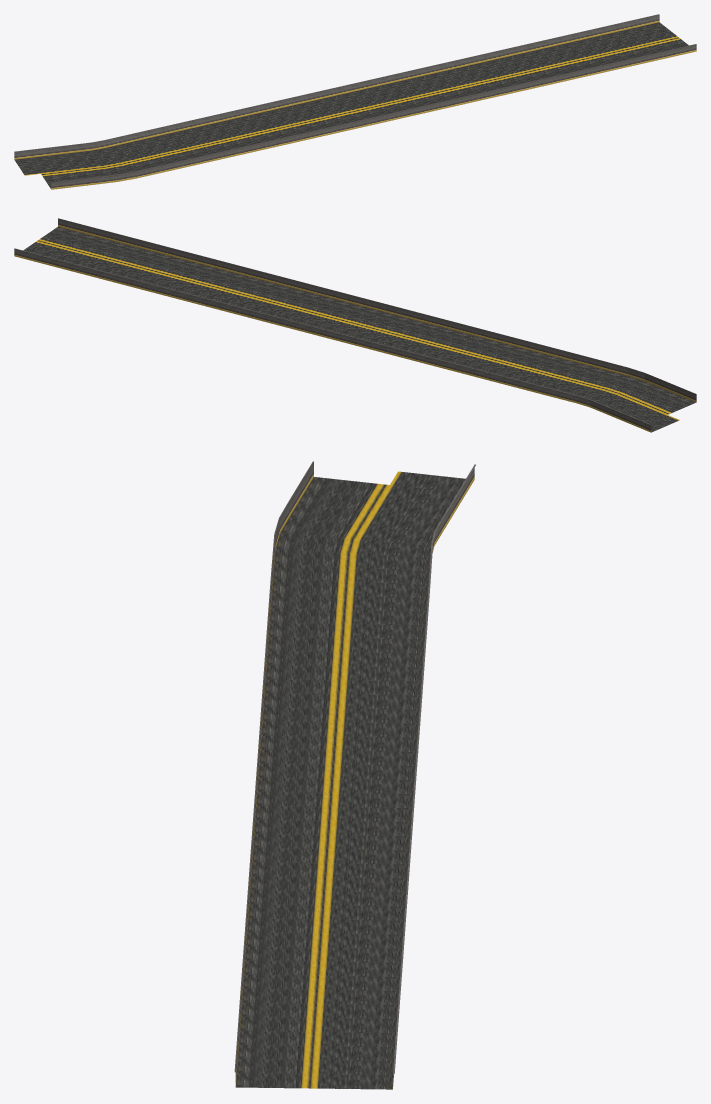
Rendered from road_block_07.obj.
The picture shows the model from 3 angles, top to bottom: view 1: azimuth 30°, elevation 25°; view 2: azimuth 150°, elevation 25°; view 3: azimuth 270°, elevation 25°; orthographic projection. The views are drawn at different scales.
Visible parts, largest first — view 1: Road_display.007_Cube.011; view 2: Road_display.007_Cube.011; view 3: Road_display.007_Cube.011.
Boxes of the visible parts, <box> form: Road_display.007_Cube.011: <box>14,14,696,189</box>; Road_display.007_Cube.011: <box>14,218,696,432</box>; Road_display.007_Cube.011: <box>234,461,475,1089</box>.
Size of the model in its own units: 136 by 1.57 by 22.47.
1 material, 1 textured.
